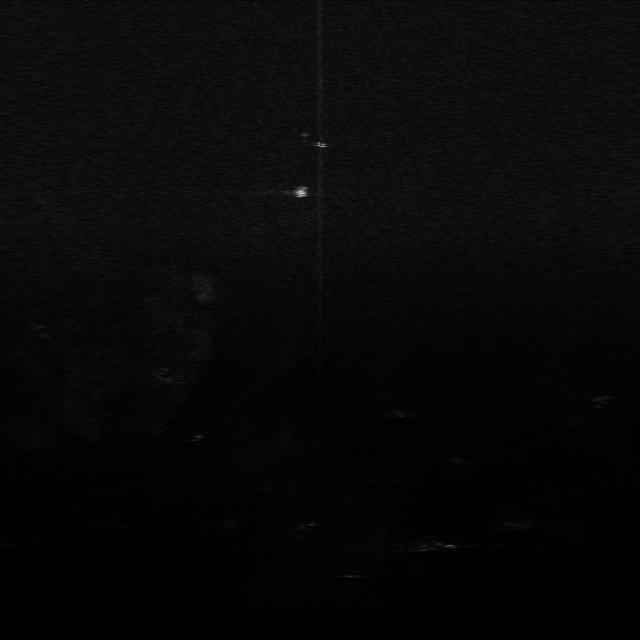rov: (290, 184, 314, 201)
